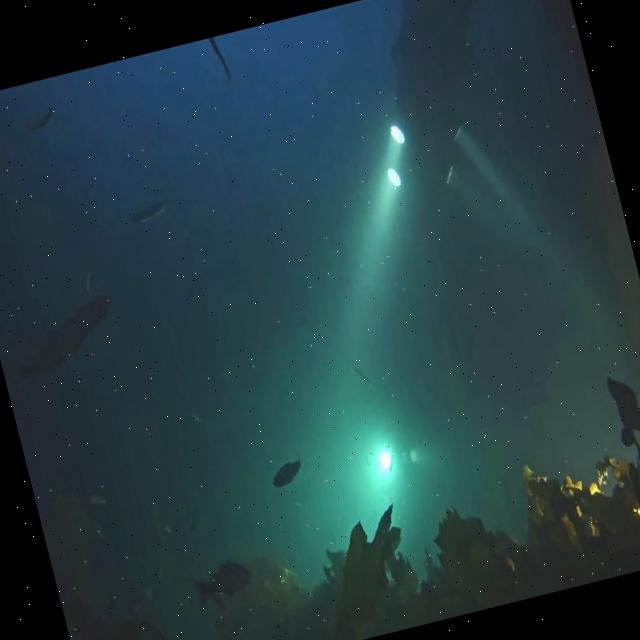fish: (12, 290, 123, 376), (192, 556, 255, 608), (265, 452, 306, 490), (128, 197, 174, 228), (20, 104, 60, 136), (207, 38, 230, 86), (384, 452, 398, 474), (353, 366, 369, 384)
